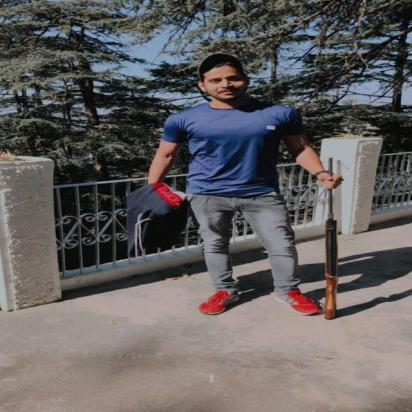Gun: (320, 157, 342, 321)
